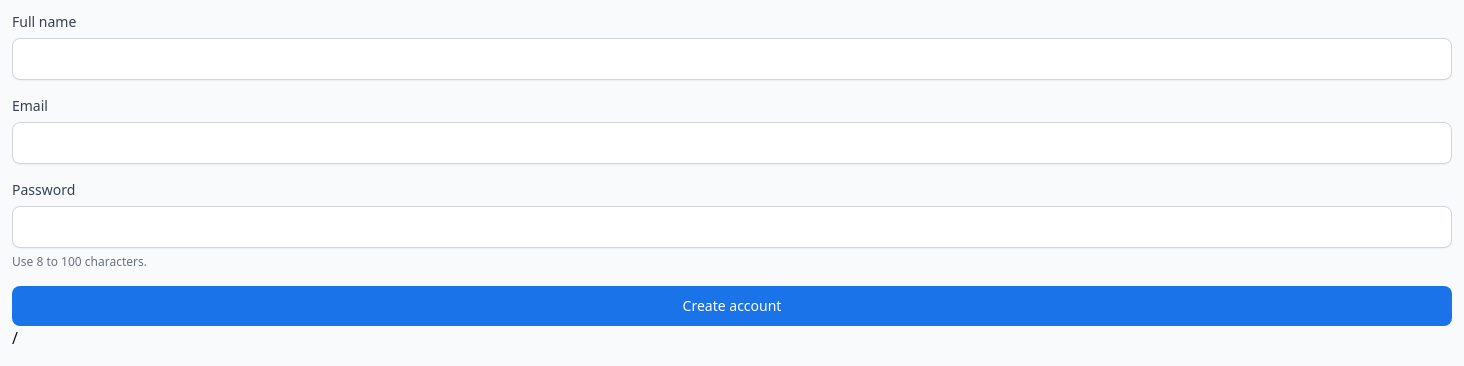
Test case: RegisterForm › registers only customer fields, auto logs in, and navigates home
Type "Riley Customer" into the field labelled "Full name".
click(732, 59); type("Riley Customer")  # box [12, 38, 1452, 80]
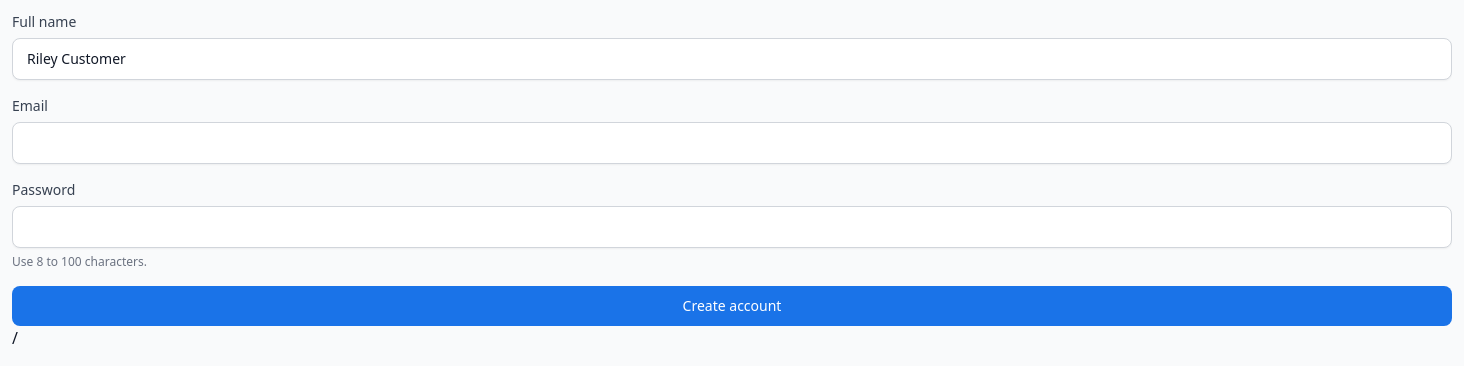
Type "riley@example.com" into the field labelled "Email".
click(732, 143); type("riley@example.com")  # box [12, 122, 1452, 164]
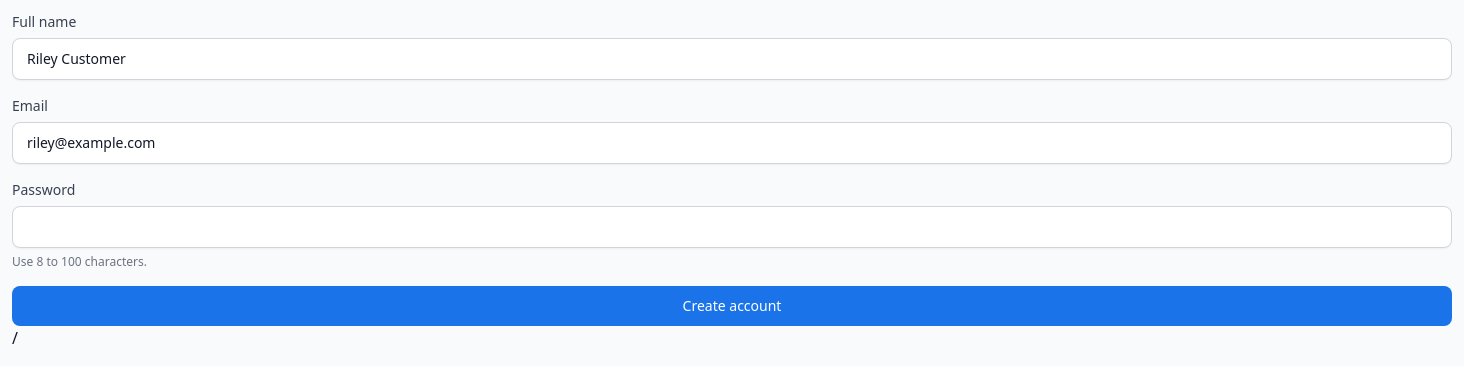
Type "Password123" into the password field labelled "Password".
click(732, 227); type("Password123")  # box [12, 206, 1452, 248]
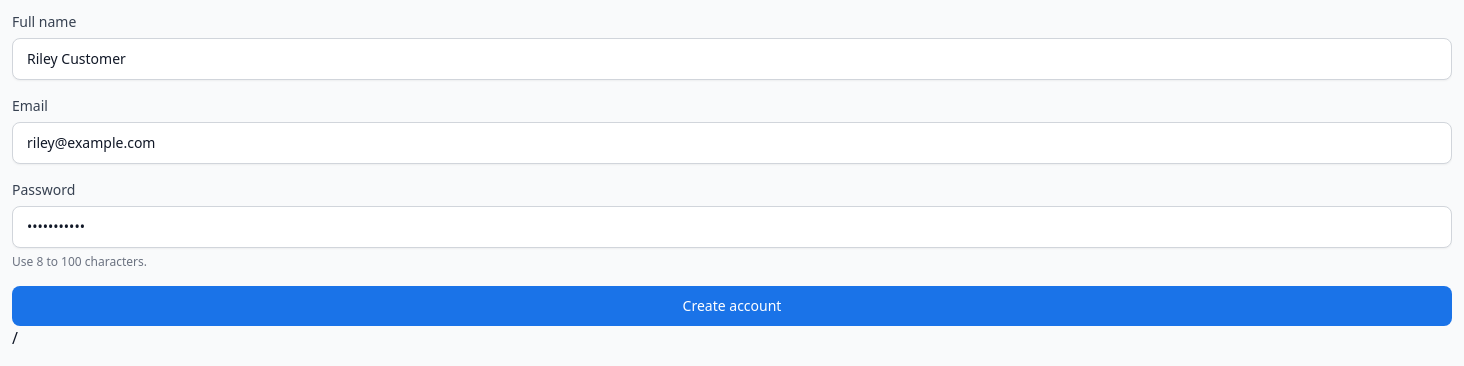
Click the button "Create account".
click(732, 306)  # box [12, 286, 1452, 326]
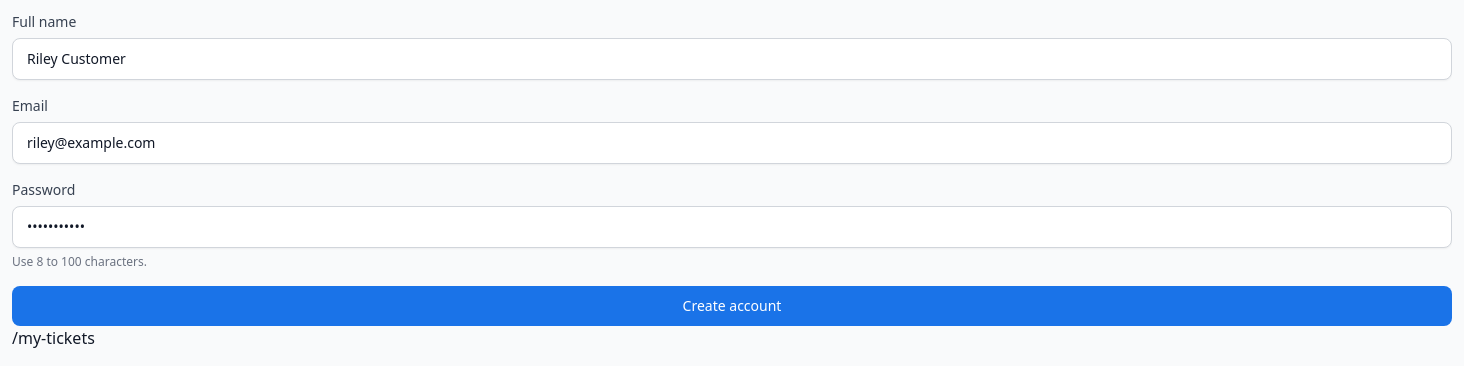
Expected: the text "/my-tickets" is shown, [12, 327, 95, 349]
